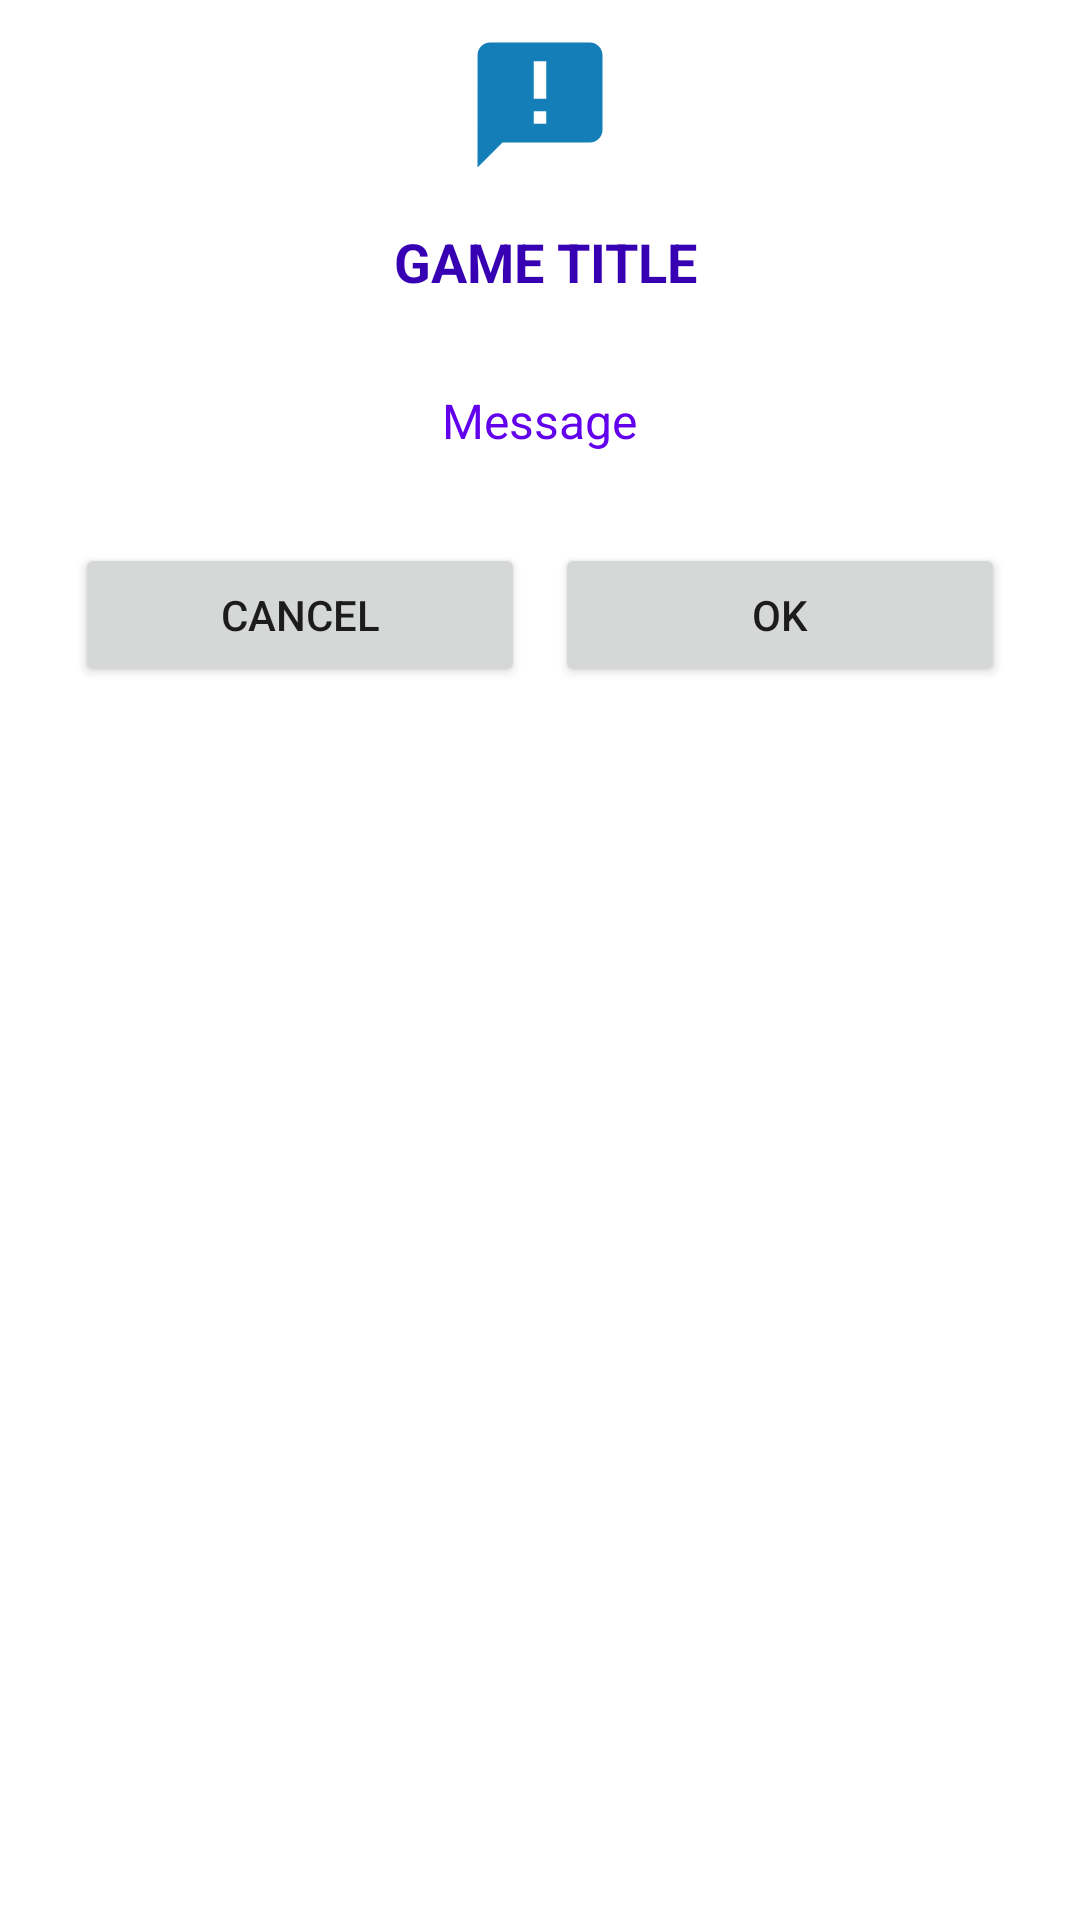

Icons on this 1080px×1920px Android screen, each with its box as box=[x1, y1, x2, y2]:
announcement: box=[477, 42, 603, 168]
